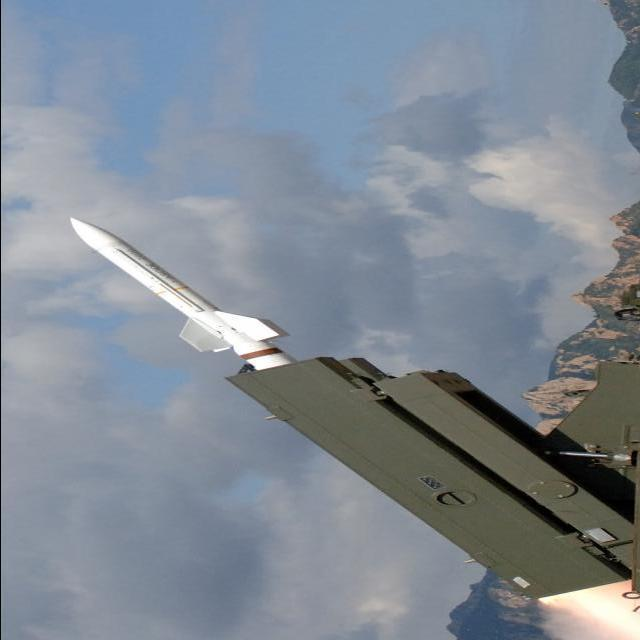missile: (70, 221, 291, 373)
